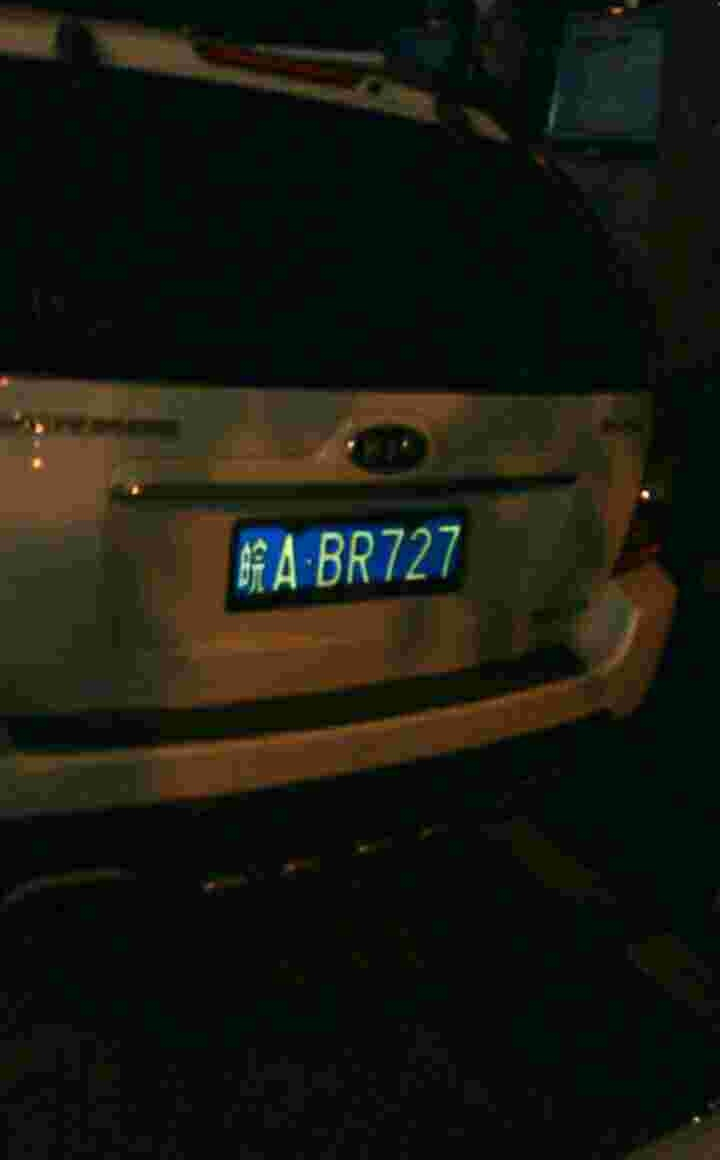license_plate: (243, 523, 475, 597)
